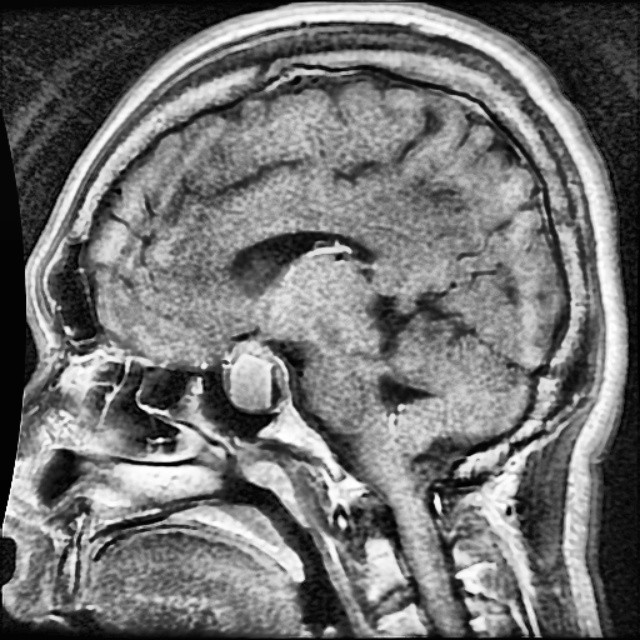Pituitary: (224, 340, 288, 410)
